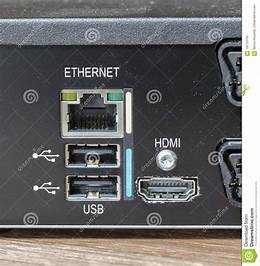Ethernet: (61, 89, 124, 139)
HDMI: (137, 175, 200, 204)
USB: (64, 174, 123, 201), (64, 144, 123, 169)
